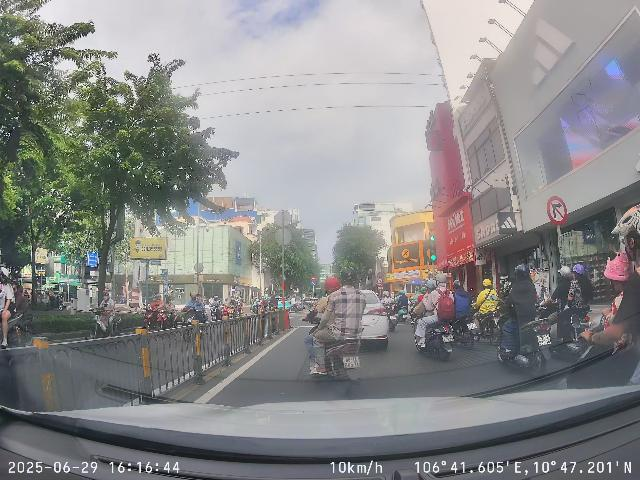123b-cam-re-phai: (546, 196, 567, 225)
